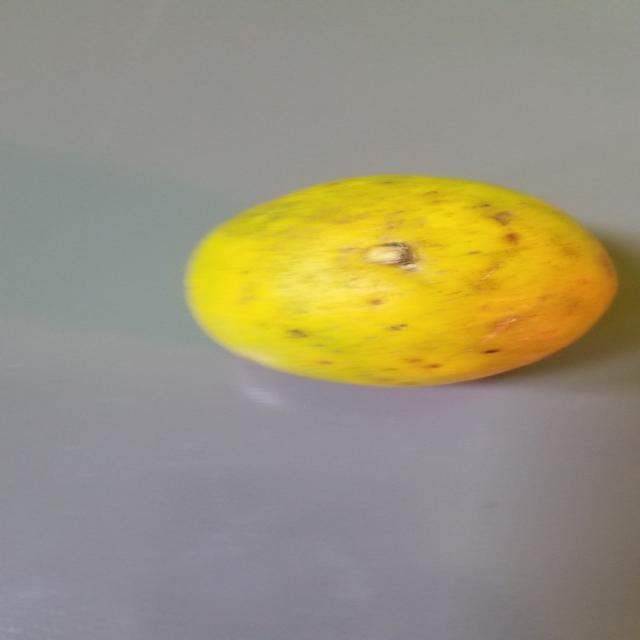Ripe orange: (147, 162, 620, 390)
